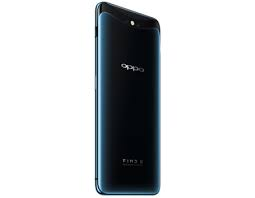oppo: (94, 1, 164, 196)
